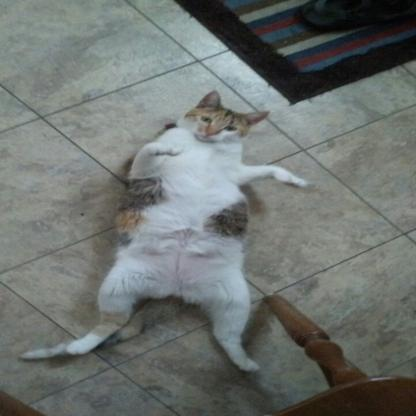Target: (48, 91, 313, 375)
